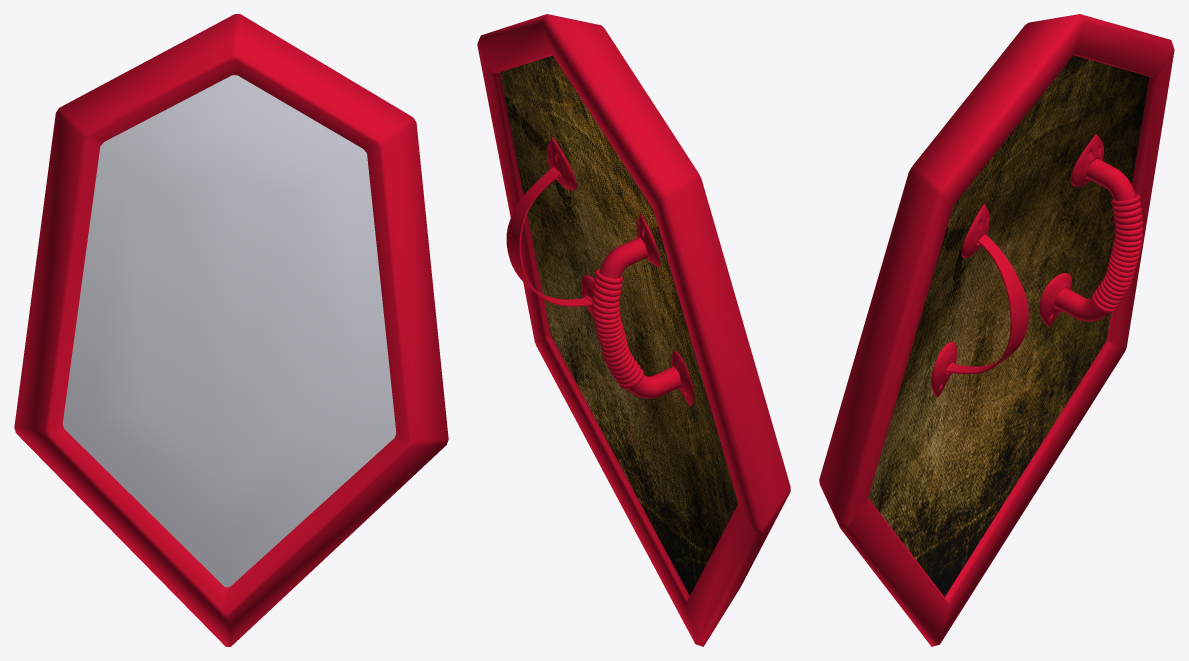
The model's file is shield.glb.
The picture shows the model from 3 angles, left to right: view 1: azimuth 30°, elevation 25°; view 2: azimuth 150°, elevation 25°; view 3: azimuth 270°, elevation 25°; orthographic projection. The views are drawn at different scales.
Parts seen in each view (by area): view 1: Shield; view 2: Shield; view 3: Shield.
Boxes of the visible parts, x1,y1,x2,y2 form: Shield: [14, 14, 448, 646]; Shield: [477, 14, 790, 646]; Shield: [819, 14, 1174, 646].
Size of the model in its own units: 2.86 by 4.84 by 2.32.
Materials: 3 (1 with a texture image).
